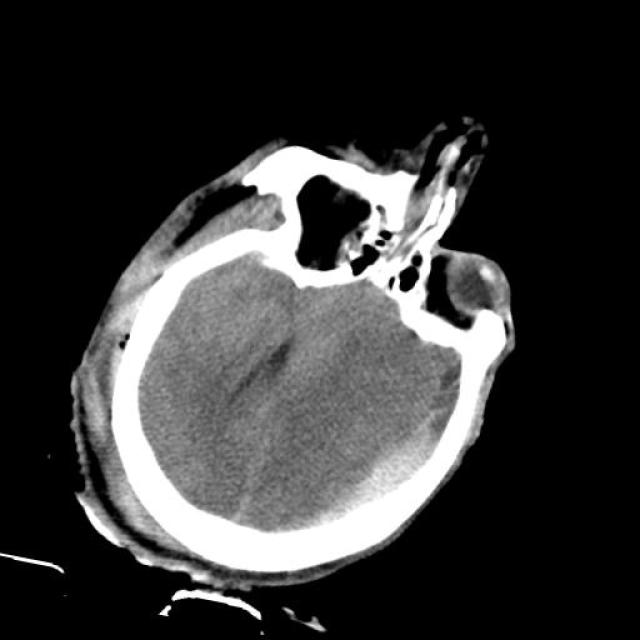Subdural: (280, 355, 464, 579)
